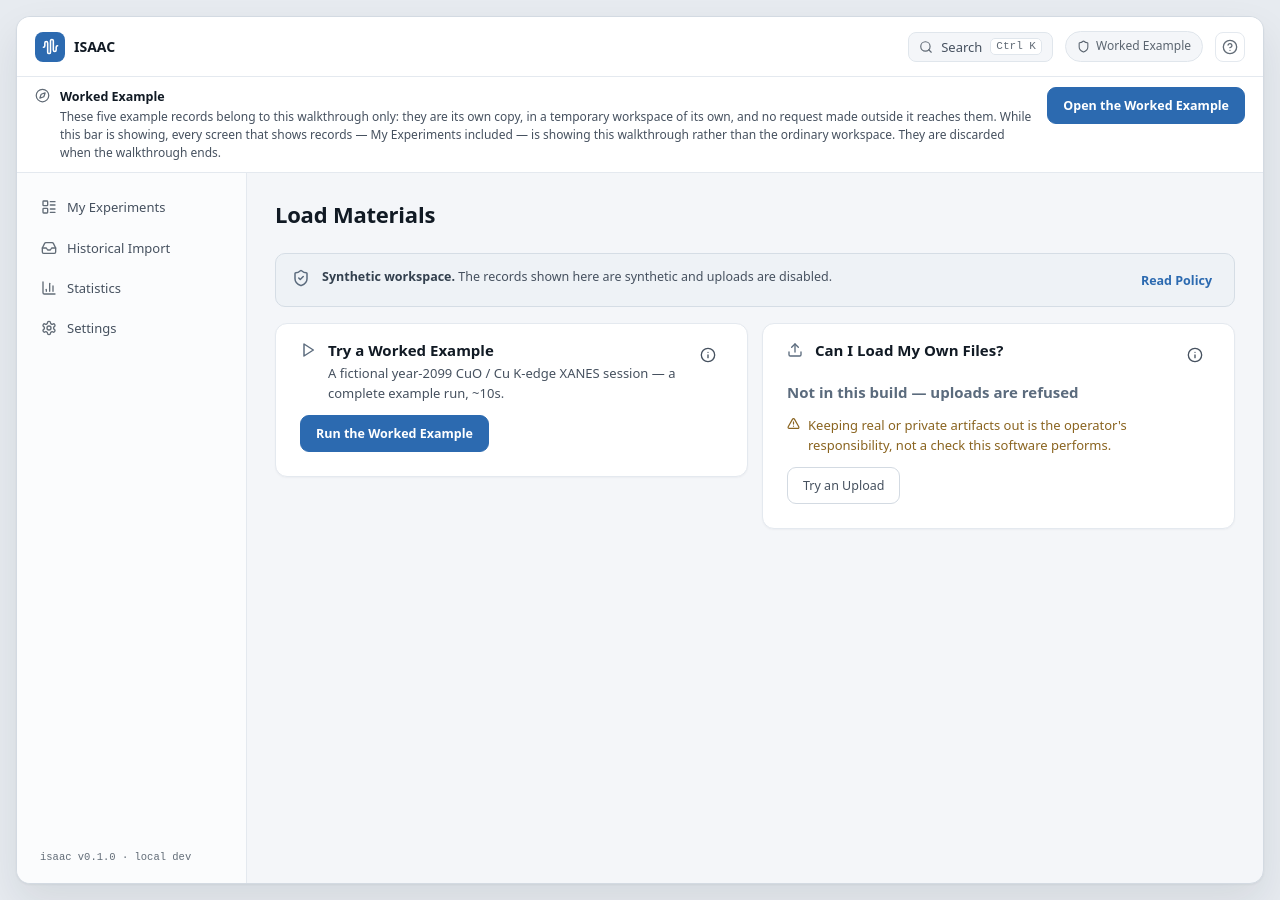
Test: B-05 · /load inside a worked-example session › keeps the run button, and it works
This screenshot has width=1280, height=900.
Click the button "Run the Worked Example": (394, 434) [300,415,489,452]
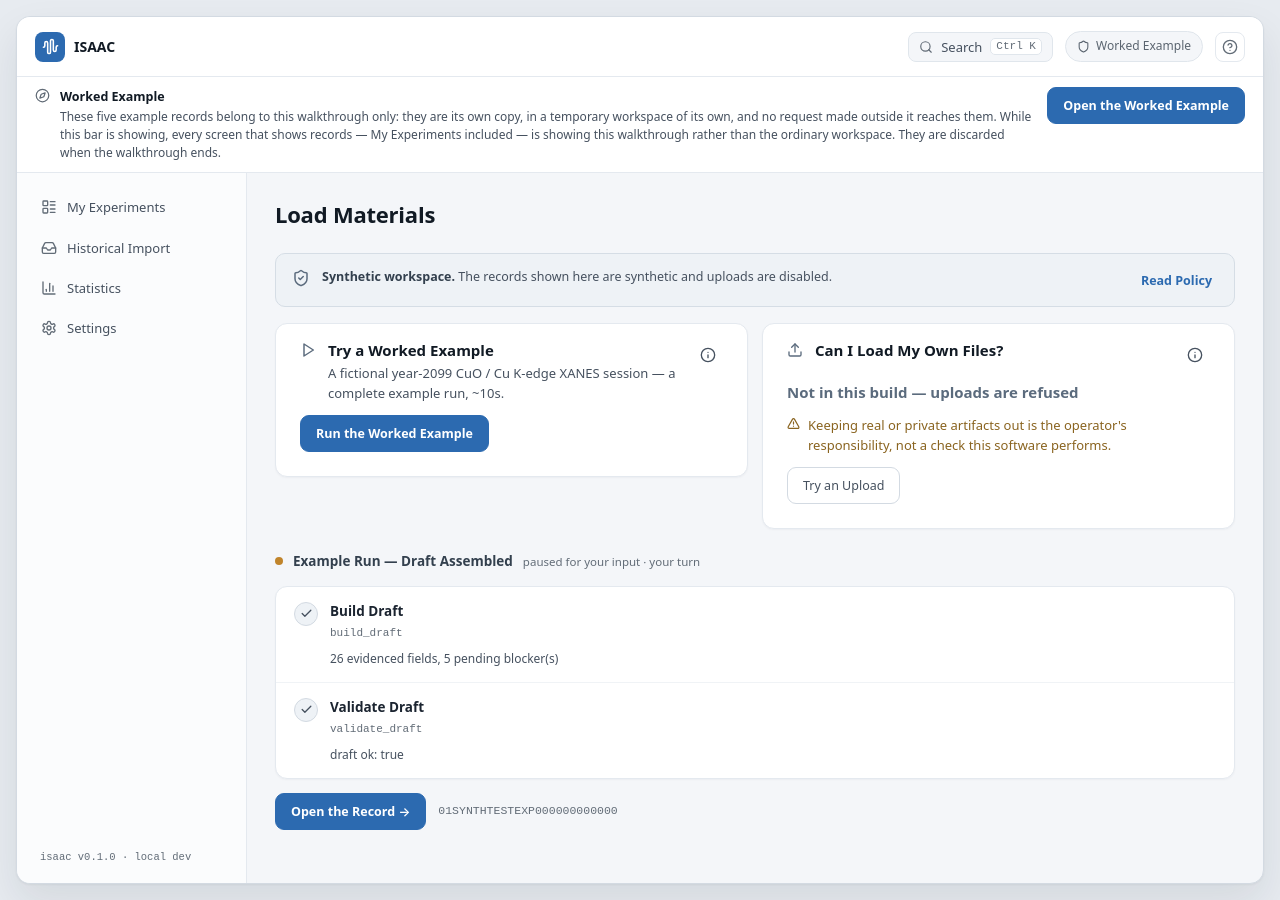
Now the button "Open the Record →" is shown, box [275,793,426,830]
